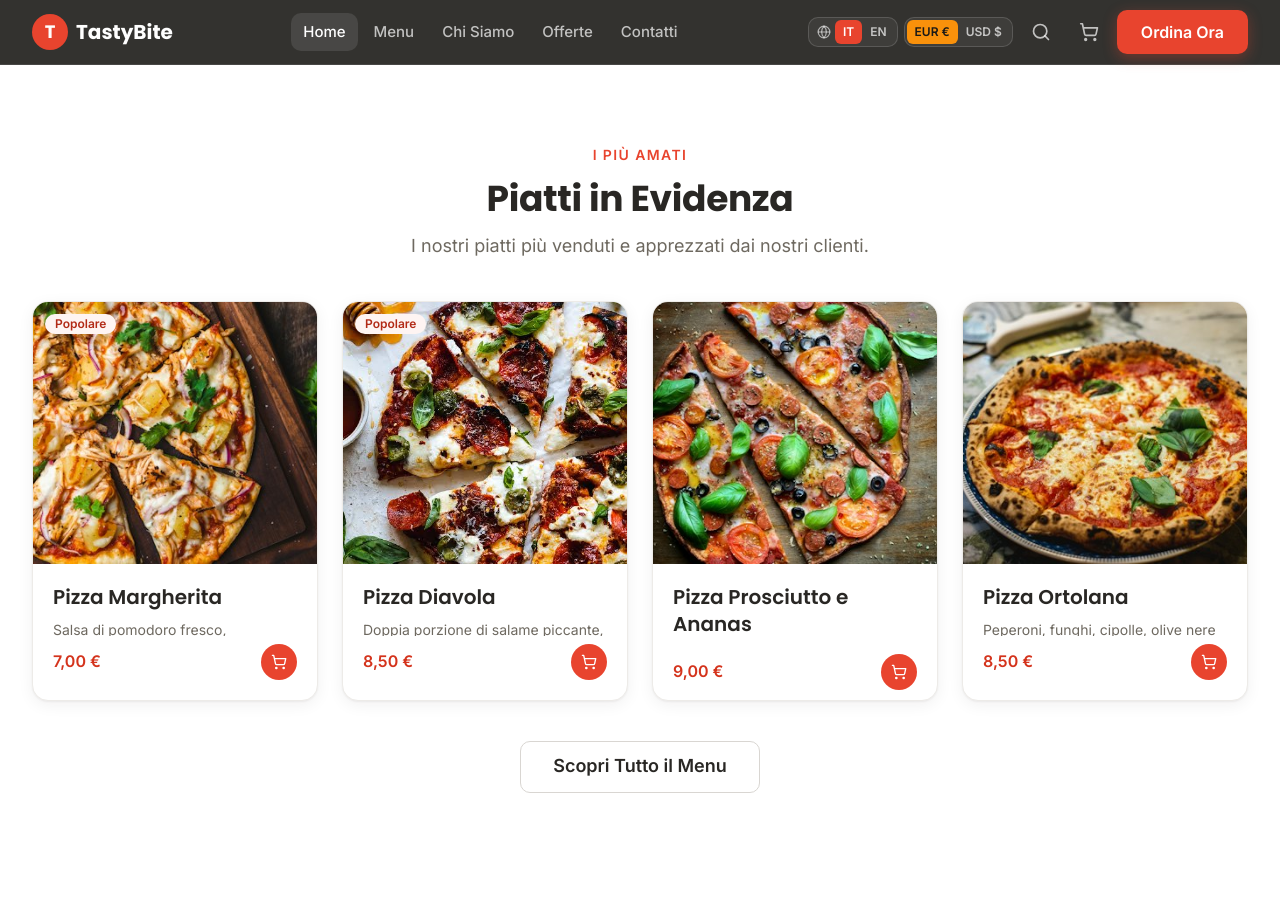
it: Language and Currency Preferences Integration › switches currency independently without changing language, and persists
What coordinates should you click on to do the following:
click the button with test id "currency-btn-USD"
I would click on:
 (984, 32)
Its box is [958,20,1010,44].
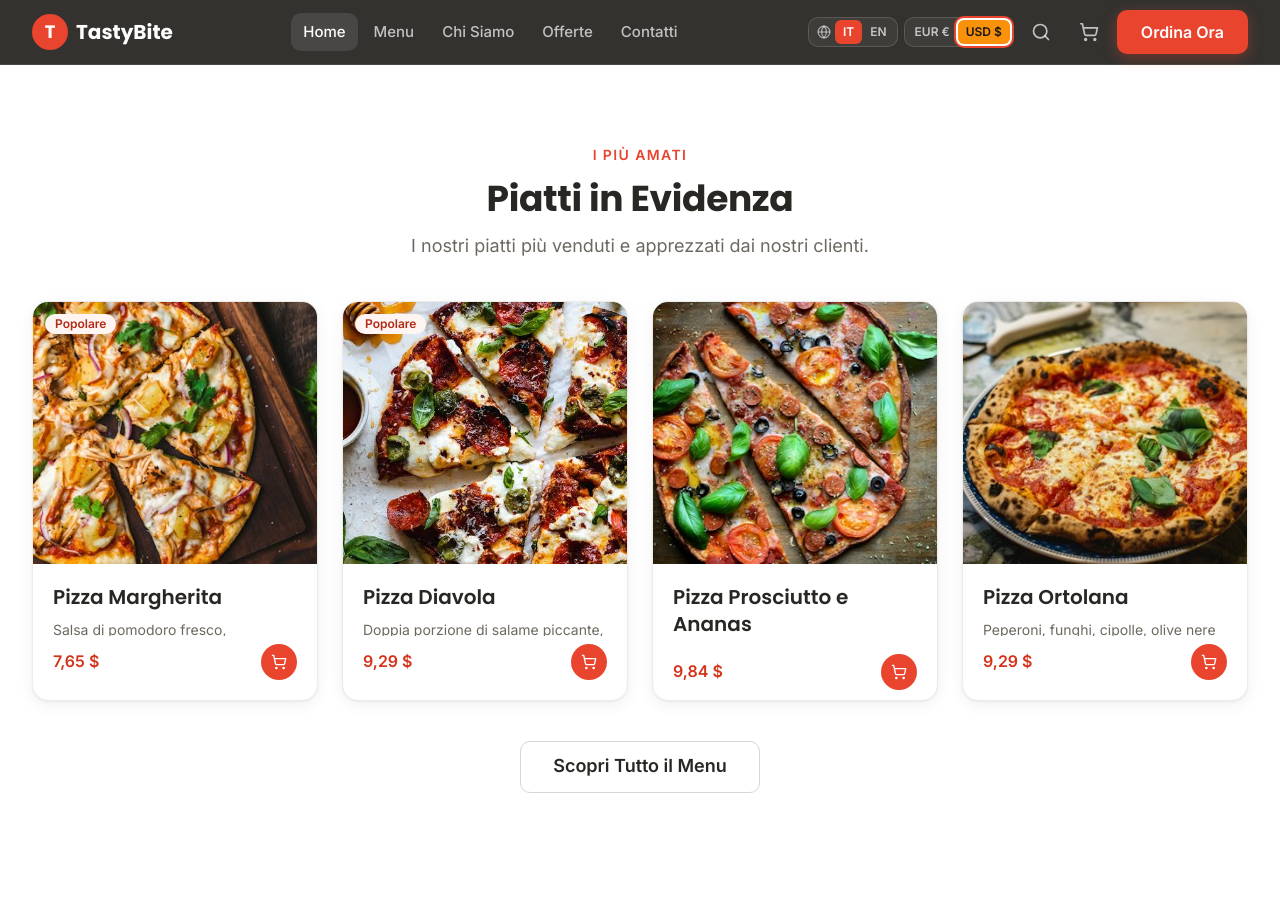
Expected: the heading "Piatti in Evidenza" is shown, [487,177,794,220]
Expected: the text "7,65 $" is shown, [53,649,99,674]
